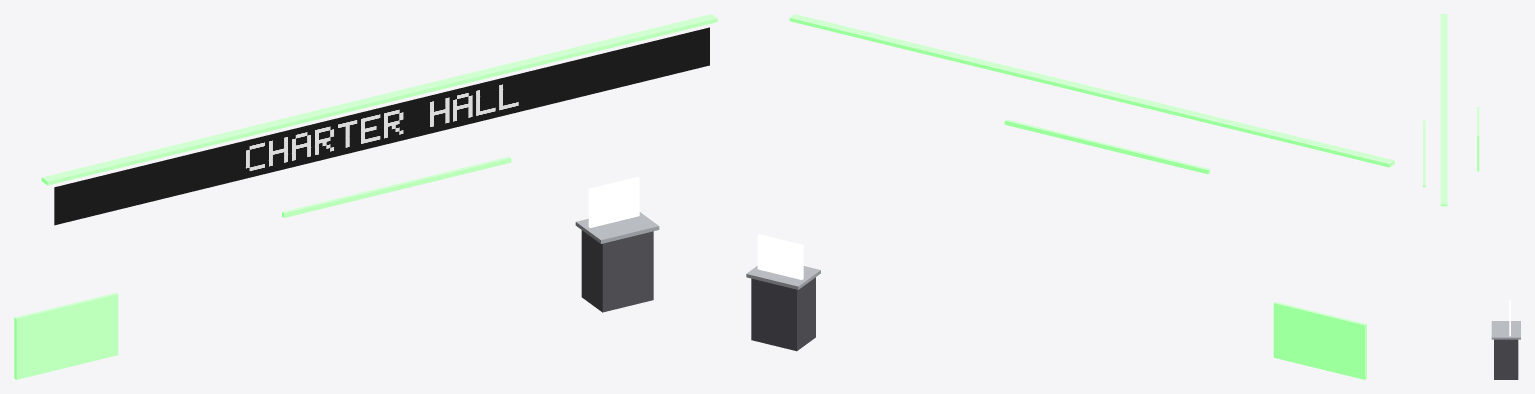
The model's file is room-s31-aerospace-dao-1.glb.
The picture shows the model from 3 angles, left to right: view 1: azimuth 30°, elevation 25°; view 2: azimuth 150°, elevation 25°; view 3: azimuth 270°, elevation 25°; orthographic projection. The views are drawn at different scales.
Parts seen in each view (by area): view 1: Aerospace DAO Charter Hall room; view 2: Aerospace DAO Charter Hall room; view 3: Aerospace DAO Charter Hall room.
Part boxes in pixels (left/top/right/bottom): Aerospace DAO Charter Hall room: left=14, top=14, right=717, bottom=379; Aerospace DAO Charter Hall room: left=746, top=14, right=1394, bottom=379; Aerospace DAO Charter Hall room: left=1423, top=14, right=1520, bottom=379.
Size of the model in its own units: 9.2 by 4.08 by 2.
Materials: 5 (1 with a texture image).
